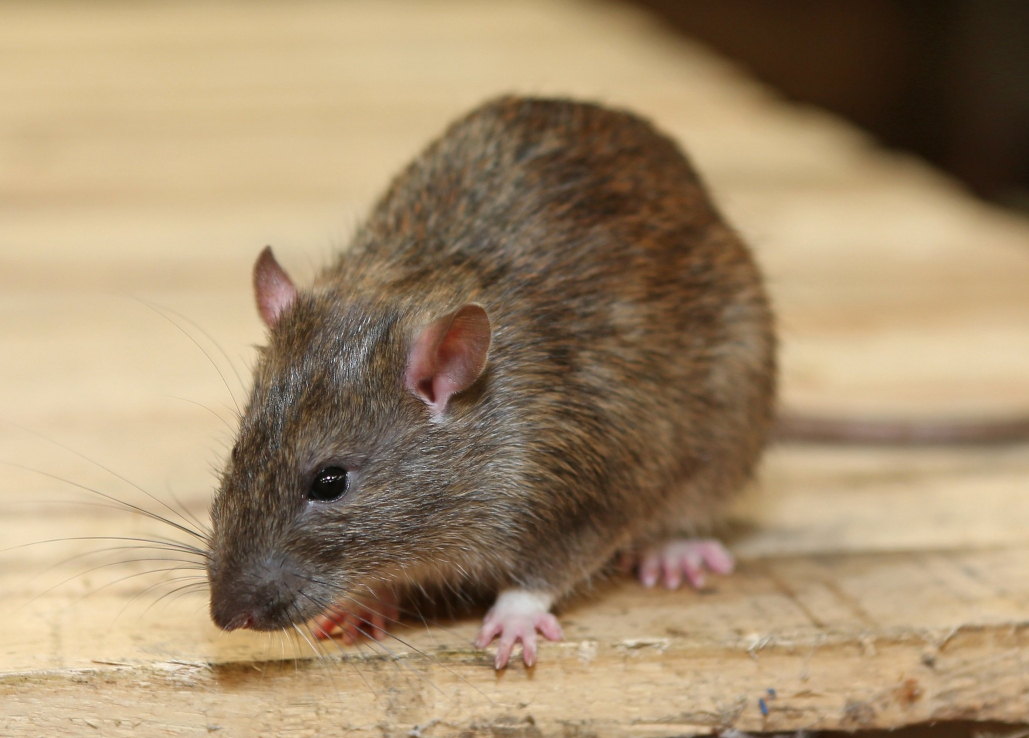rat: (144, 78, 805, 679)
